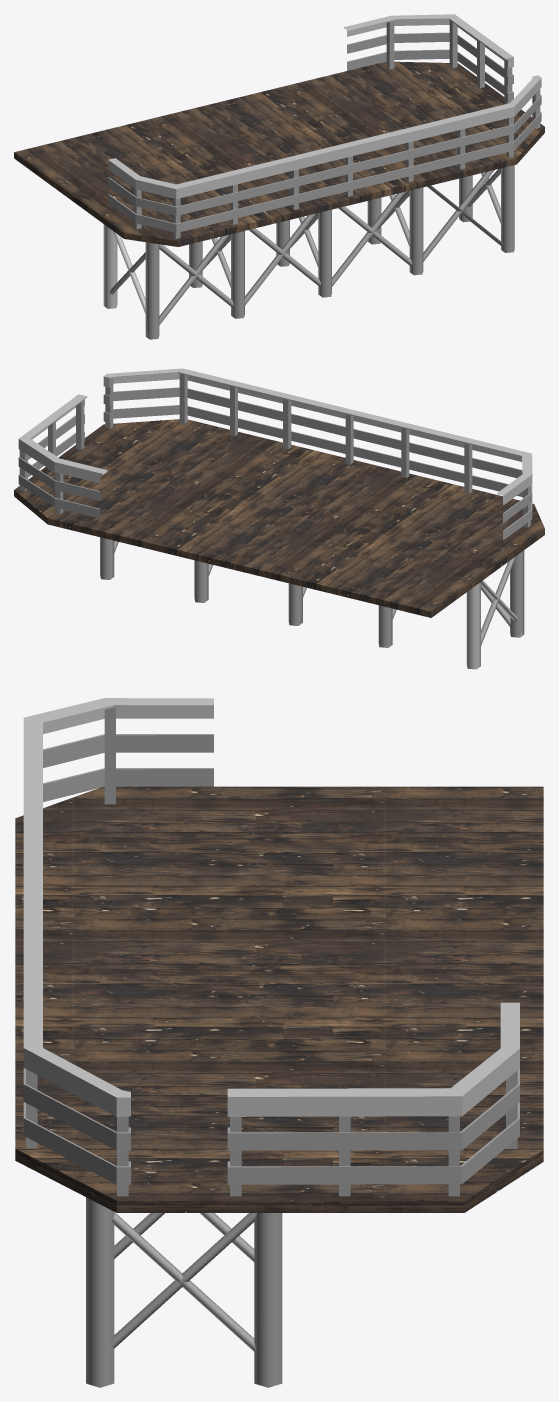
The model's file is Foundation.fbx.
3 views of the same model, one above another, from view 1: azimuth 30°, elevation 25°; view 2: azimuth 150°, elevation 25°; view 3: azimuth 270°, elevation 25° (orthographic). The views are drawn at different scales.
Visible parts, largest first — view 1: Foundation; view 2: Foundation; view 3: Foundation.
Boxes of the visible parts, x1=… form: Foundation: x1=14, y1=14, x2=544, y2=339; Foundation: x1=14, y1=368, x2=544, y2=669; Foundation: x1=15, y1=698, x2=543, y2=1387.
Bounding box in the file's own units: 994 × 361 × 536.
